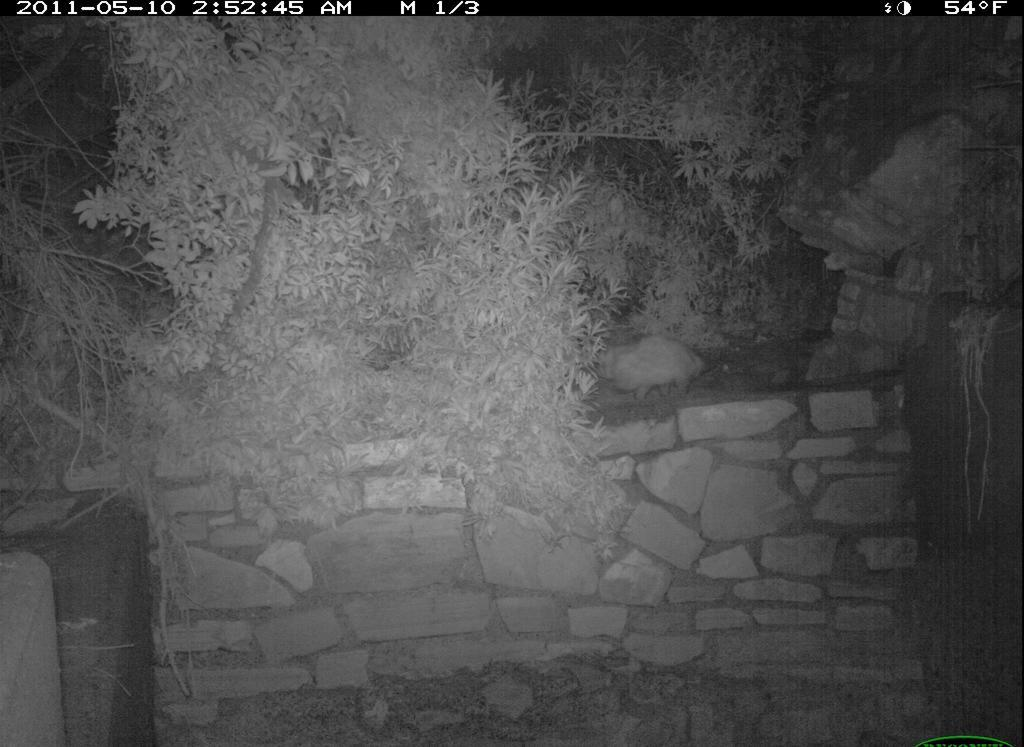opossum: (587, 332, 724, 418)
